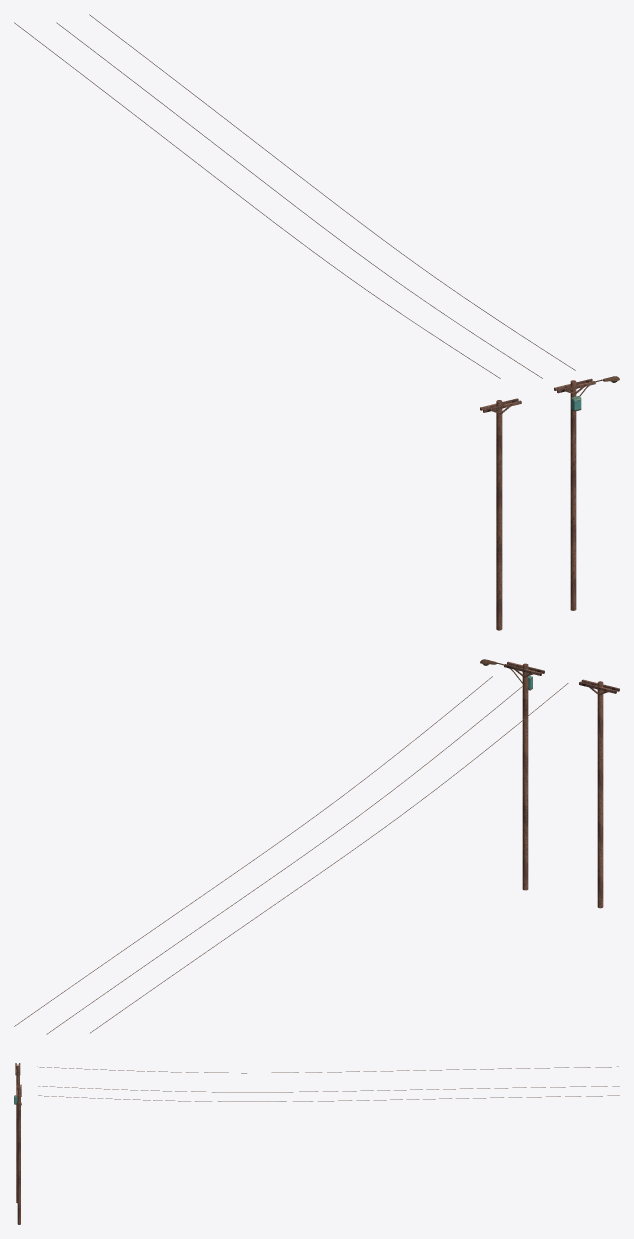
The model's file is Electric_pole.fbx.
3 views of the same model, one above another, from view 1: azimuth 30°, elevation 25°; view 2: azimuth 150°, elevation 25°; view 3: azimuth 270°, elevation 25° (orthographic). The views are drawn at different scales.
Visible parts, largest first — view 1: Group1, Group2, Group3; view 2: Group1, Group2, Group3, Group4; view 3: Group3, Group1, Group4, Group2.
Boxes of the visible parts, bbox=[...] form: Group1: bbox=[554, 376, 619, 610]; Group2: bbox=[480, 398, 521, 630]; Group3: bbox=[56, 14, 575, 378]; Group1: bbox=[480, 659, 544, 890]; Group2: bbox=[579, 679, 619, 908]; Group3: bbox=[14, 676, 524, 1034]; Group4: bbox=[90, 683, 568, 1033]; Group3: bbox=[38, 1086, 619, 1101]; Group1: bbox=[14, 1084, 21, 1224]; Group4: bbox=[37, 1066, 618, 1073]; Group2: bbox=[15, 1063, 20, 1203].
Bounding box in the file's own units: 206 × 334 × 1305.
